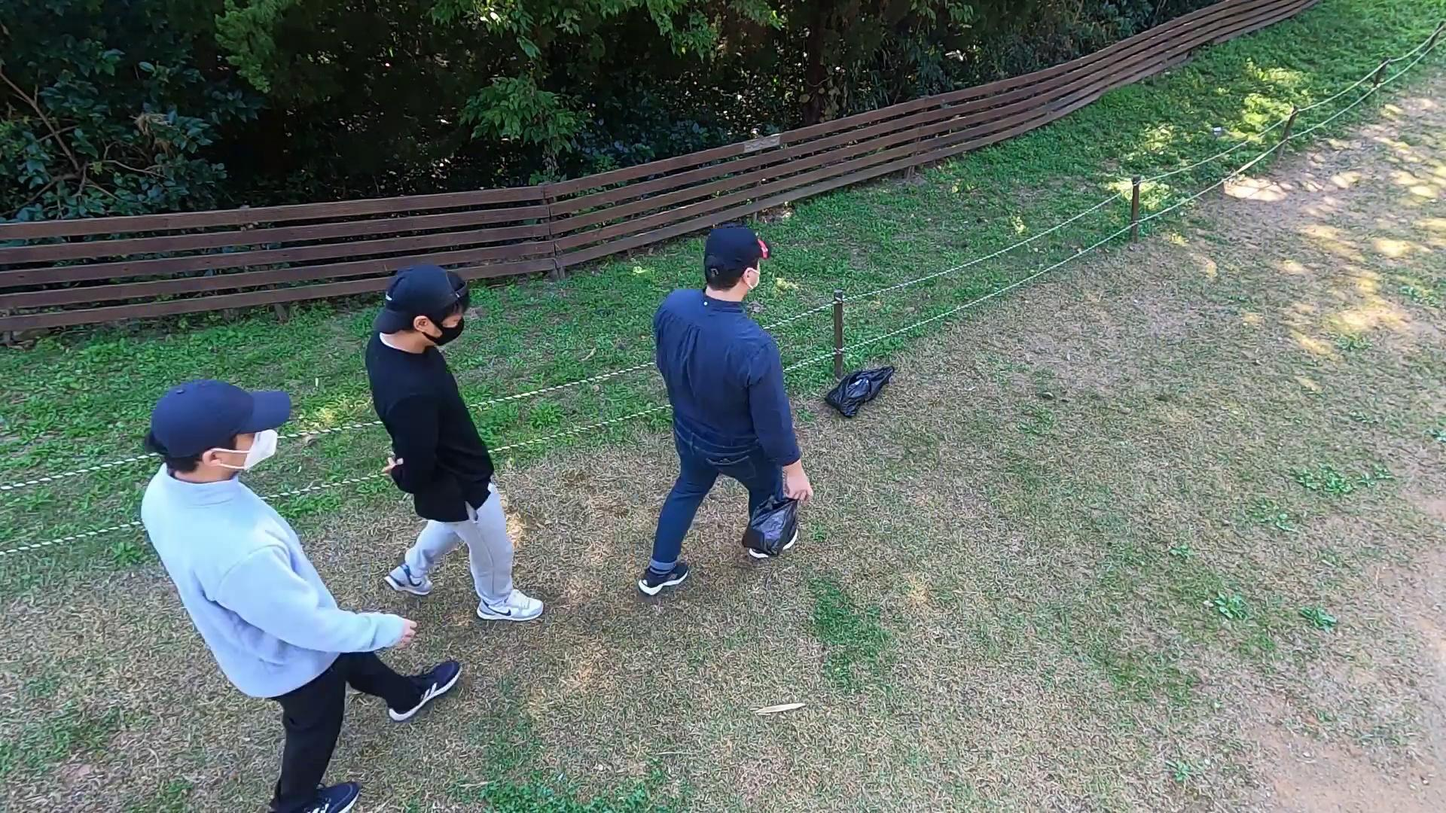person: (130, 378, 477, 813), (345, 262, 573, 630), (636, 222, 817, 601)
trash: (823, 361, 902, 420), (738, 497, 802, 556)
